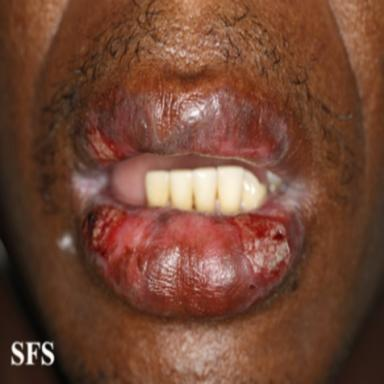lichen: (82, 202, 305, 306), (77, 87, 289, 167)
